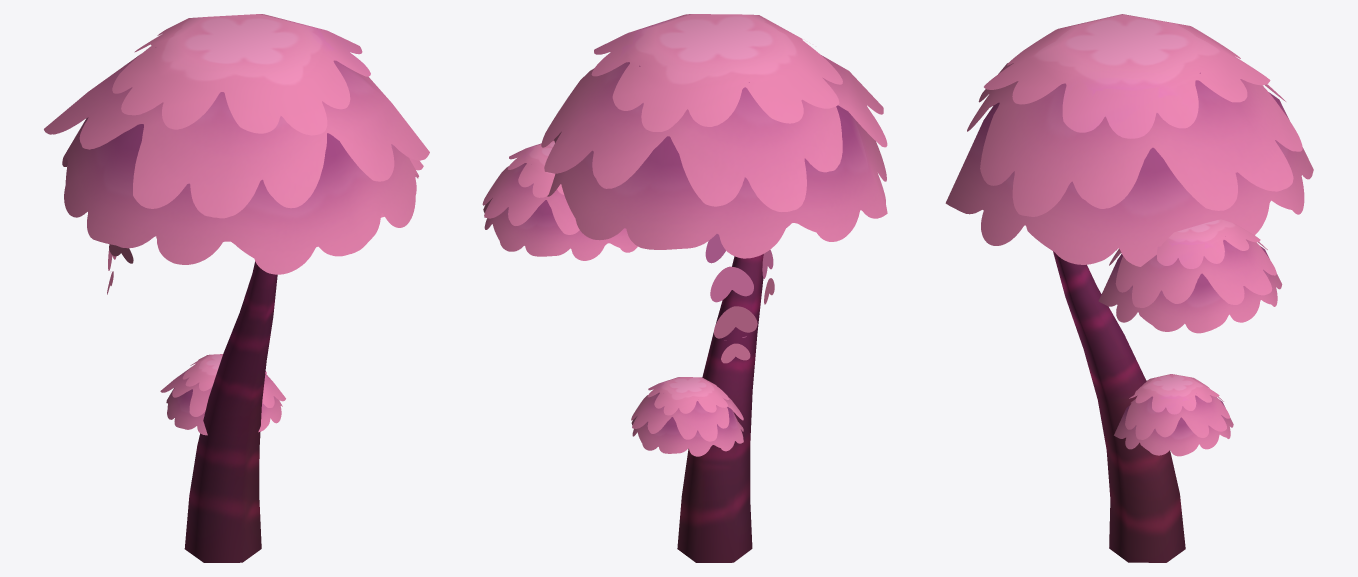
Rendered from SM_Tree_Small1.fbx.
The picture shows the model from 3 angles, left to right: view 1: azimuth 30°, elevation 25°; view 2: azimuth 150°, elevation 25°; view 3: azimuth 270°, elevation 25°; orthographic projection. The views are drawn at different scales.
Visible parts, largest first — view 1: SM_Tree_Small_Leaves, SM_Tree_Small_Trunk; view 2: SM_Tree_Small_Leaves, SM_Tree_Small_Trunk, SM_Tree_Small_DroopingPlants; view 3: SM_Tree_Small_Leaves, SM_Tree_Small_Trunk.
Part boxes in pixels (x1,y1,x2,y2): SM_Tree_Small_Leaves: [44, 14, 429, 435]; SM_Tree_Small_Trunk: [184, 261, 277, 562]; SM_Tree_Small_Leaves: [482, 14, 887, 456]; SM_Tree_Small_Trunk: [677, 254, 763, 562]; SM_Tree_Small_DroopingPlants: [705, 234, 774, 363]; SM_Tree_Small_Leaves: [945, 14, 1313, 456]; SM_Tree_Small_Trunk: [1053, 251, 1185, 562].
Size of the model in its own units: 5.6 by 7.11 by 5.18.
